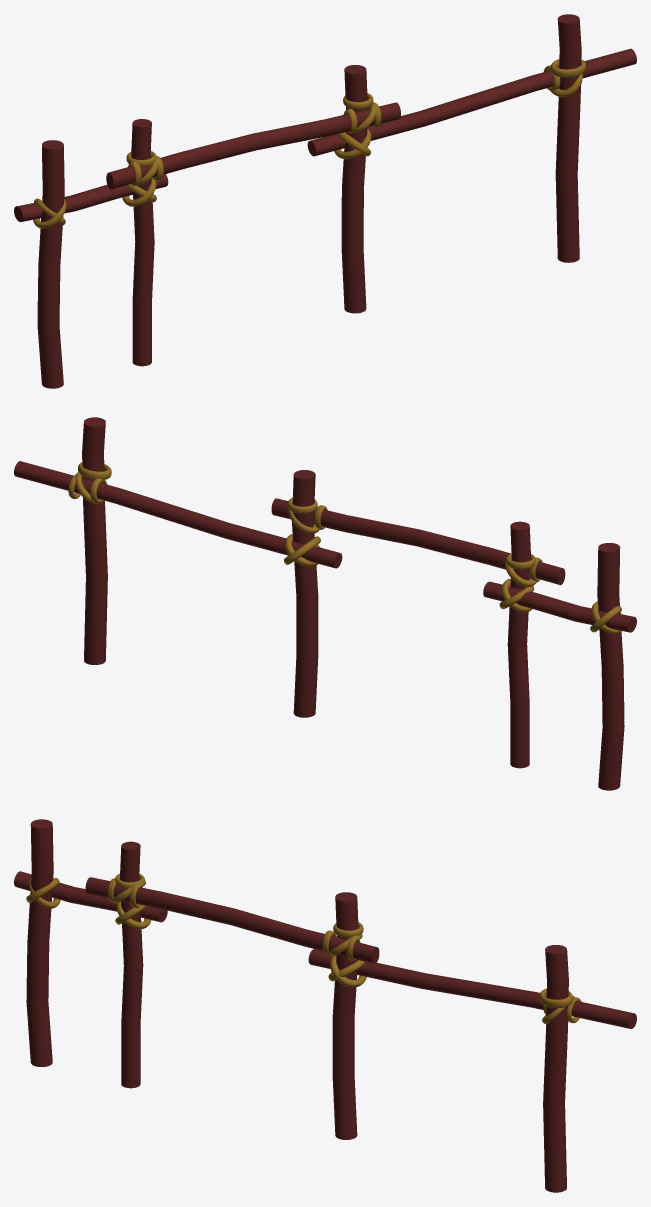
The model's file is colored febce .fbx.
3 views of the same model, one above another, from view 1: azimuth 30°, elevation 25°; view 2: azimuth 150°, elevation 25°; view 3: azimuth 330°, elevation 25° (orthographic).
Parts seen in each view (by area): view 1: Cylinder.045, Cylinder.038, Cylinder.040, Cylinder.041, Cylinder.039, Cylinder.042, Cylinder.043; view 2: Cylinder.039, Cylinder.045, Cylinder.038, Cylinder.040, Cylinder.041, Cylinder.042, Cylinder.043; view 3: Cylinder.045, Cylinder.038, Cylinder.040, Cylinder.041, Cylinder.039, Cylinder.042, Cylinder.043.
Part boxes in pixels (bbox=[...]): Cylinder.045: bbox=[37, 140, 64, 388]; Cylinder.038: bbox=[555, 14, 581, 262]; Cylinder.040: bbox=[341, 65, 367, 313]; Cylinder.041: bbox=[106, 102, 400, 189]; Cylinder.039: bbox=[307, 48, 636, 156]; Cylinder.042: bbox=[131, 119, 154, 366]; Cylinder.043: bbox=[14, 174, 168, 221]; Cylinder.039: bbox=[14, 461, 342, 568]; Cylinder.045: bbox=[597, 543, 624, 790]; Cylinder.038: bbox=[82, 417, 107, 664]; Cylinder.040: bbox=[292, 470, 318, 717]; Cylinder.041: bbox=[271, 498, 565, 585]; Cylinder.042: bbox=[507, 521, 530, 768]; Cylinder.043: bbox=[483, 581, 636, 632]; Cylinder.045: bbox=[26, 819, 53, 1066]; Cylinder.038: bbox=[543, 945, 568, 1192]; Cylinder.040: bbox=[332, 892, 358, 1139]; Cylinder.041: bbox=[85, 877, 379, 963]; Cylinder.039: bbox=[308, 949, 636, 1028]; Cylinder.042: bbox=[120, 841, 143, 1088]; Cylinder.043: bbox=[14, 871, 167, 922].
Bounding box in the file's own units: 1225 × 455 × 90.47.
